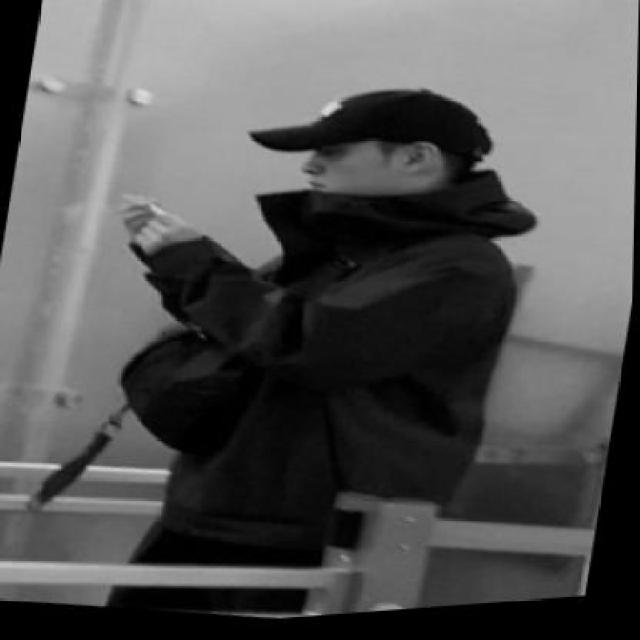hat: (237, 58, 508, 193)
